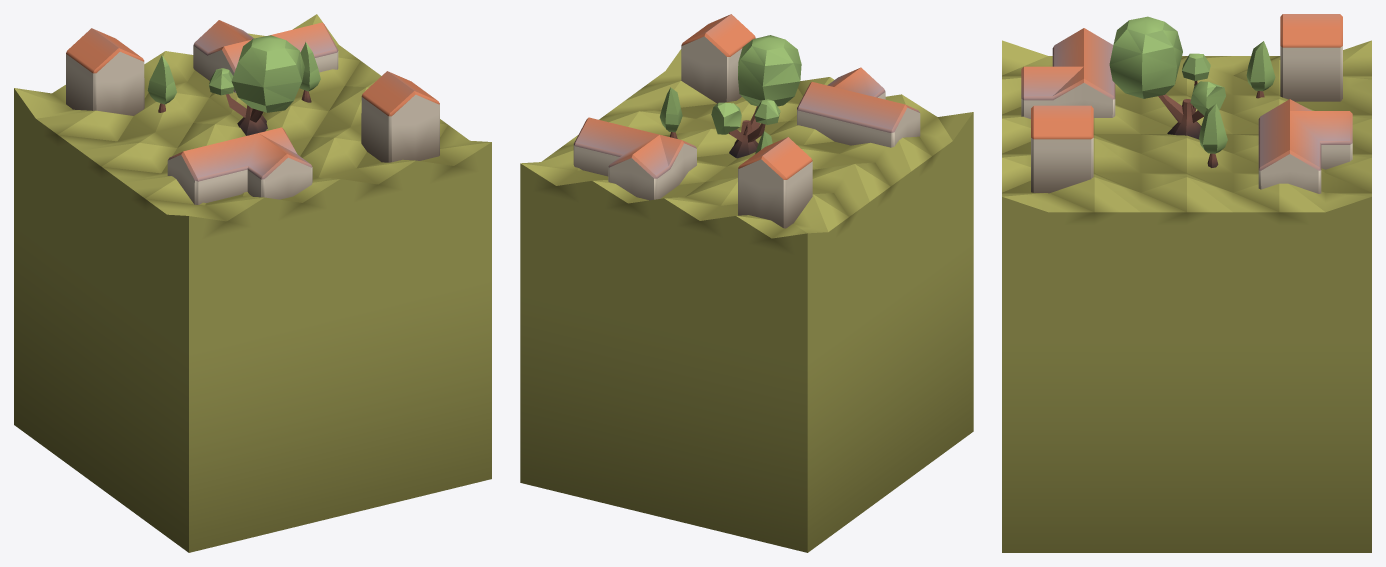
The model's file is grasssuburban.fbx.
3 views of the same model, side by side, from view 1: azimuth 30°, elevation 25°; view 2: azimuth 150°, elevation 25°; view 3: azimuth 270°, elevation 25° (orthographic). The views are drawn at different scales.
Parts seen in each view (by area): view 1: grasssuburban; view 2: grasssuburban; view 3: grasssuburban.
Boxes of the visible parts, <box> form: grasssuburban: <box>14,14,491,552</box>; grasssuburban: <box>520,14,973,552</box>; grasssuburban: <box>1002,14,1371,552</box>.
Bounding box in the file's own units: 79.9 × 108 × 79.9.
